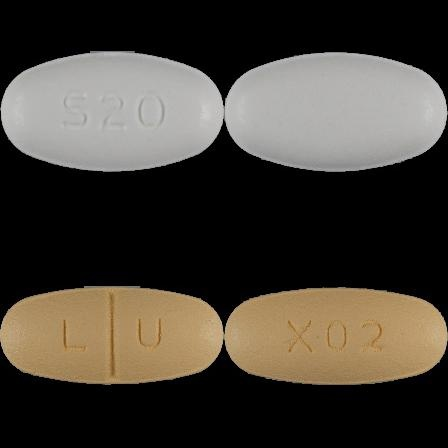61786-480: (0, 0, 224, 224)
